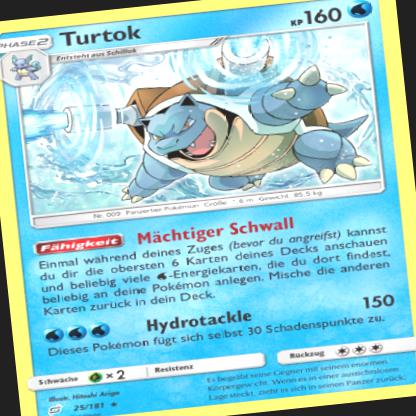Blastoise: (54, 34, 374, 214)
